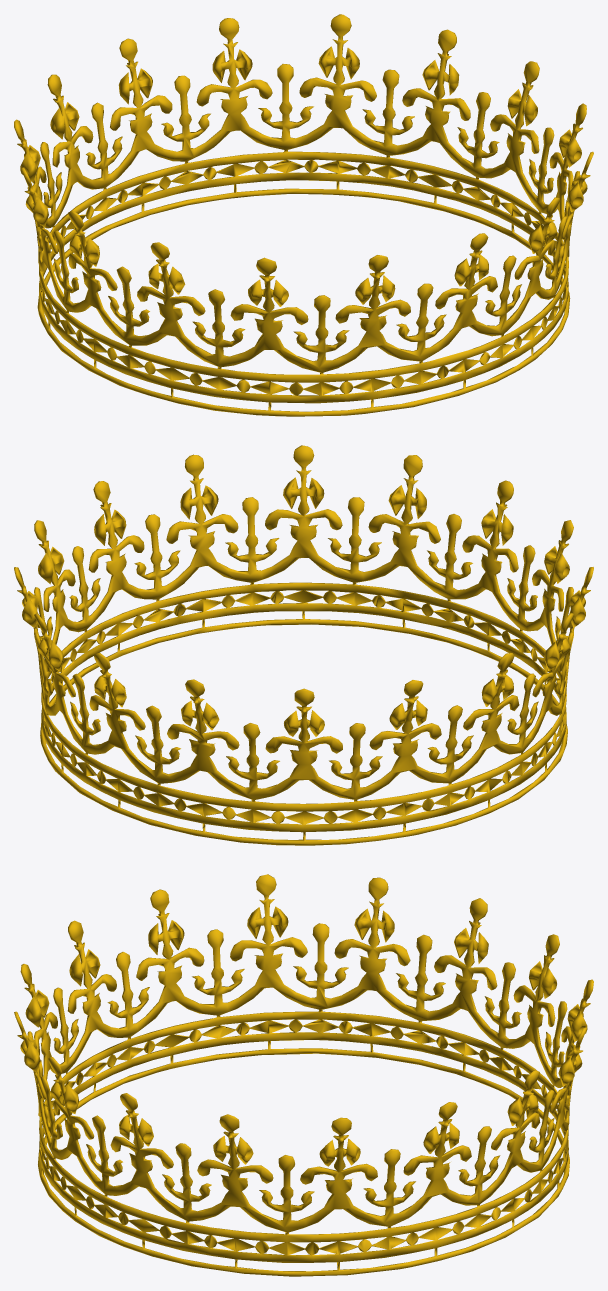
3 views of the same model, one above another, from view 1: azimuth 30°, elevation 25°; view 2: azimuth 150°, elevation 25°; view 3: azimuth 270°, elevation 25° (orthographic).
Parts seen in each view (by area): view 1: Crown_1LP_IronCrown.001; view 2: Crown_1LP_IronCrown.001; view 3: Crown_1LP_IronCrown.001.
Part boxes in pixels (box(x1,y1,x2,y2)): Crown_1LP_IronCrown.001: box(14, 14, 593, 416); Crown_1LP_IronCrown.001: box(14, 445, 593, 845); Crown_1LP_IronCrown.001: box(14, 874, 593, 1276).
Size of the model in its own units: 6.47 by 2.08 by 6.47.
1 material, 1 textured.
